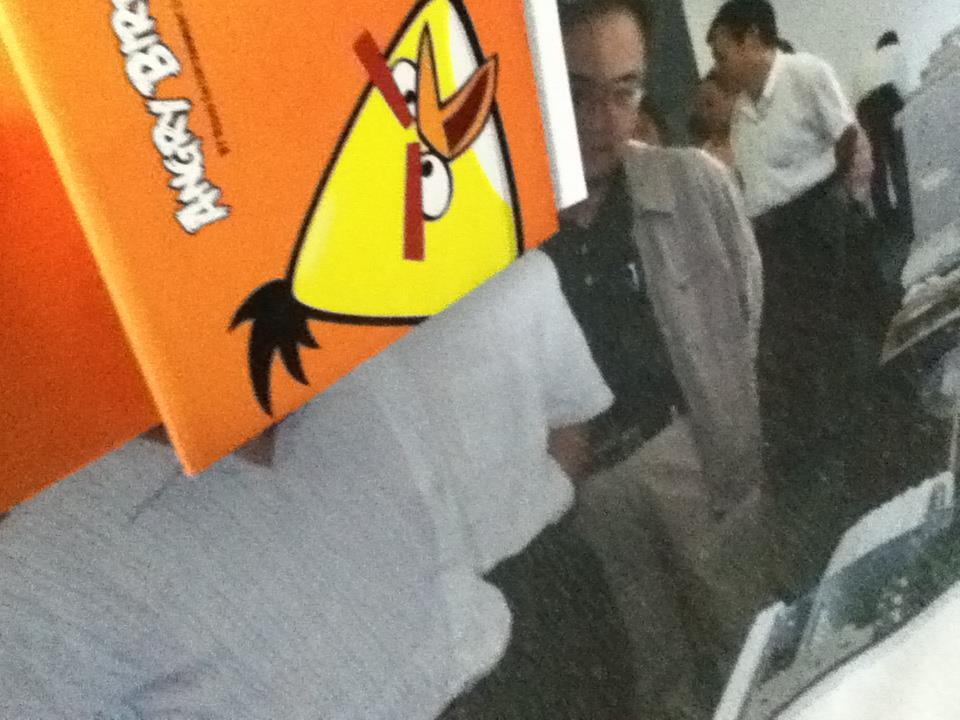crazybird_notes: (3, 1, 563, 483)
